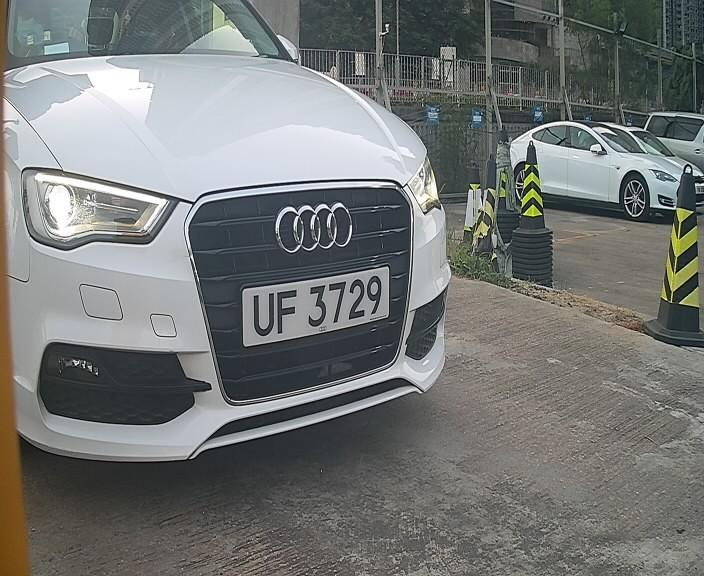License Plate: (233, 265, 390, 348)
